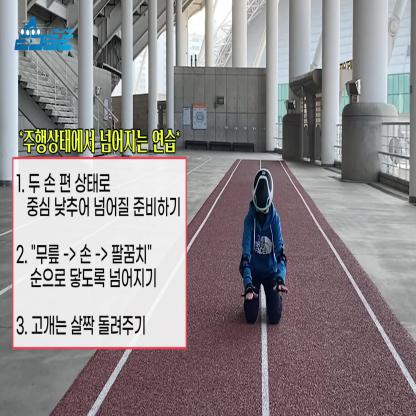Fall_Down: (239, 168, 289, 325)
